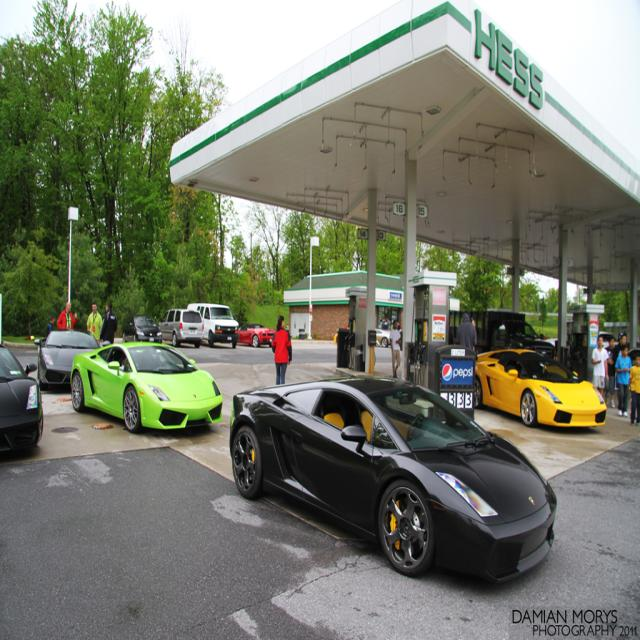car: (223, 372, 560, 580)
